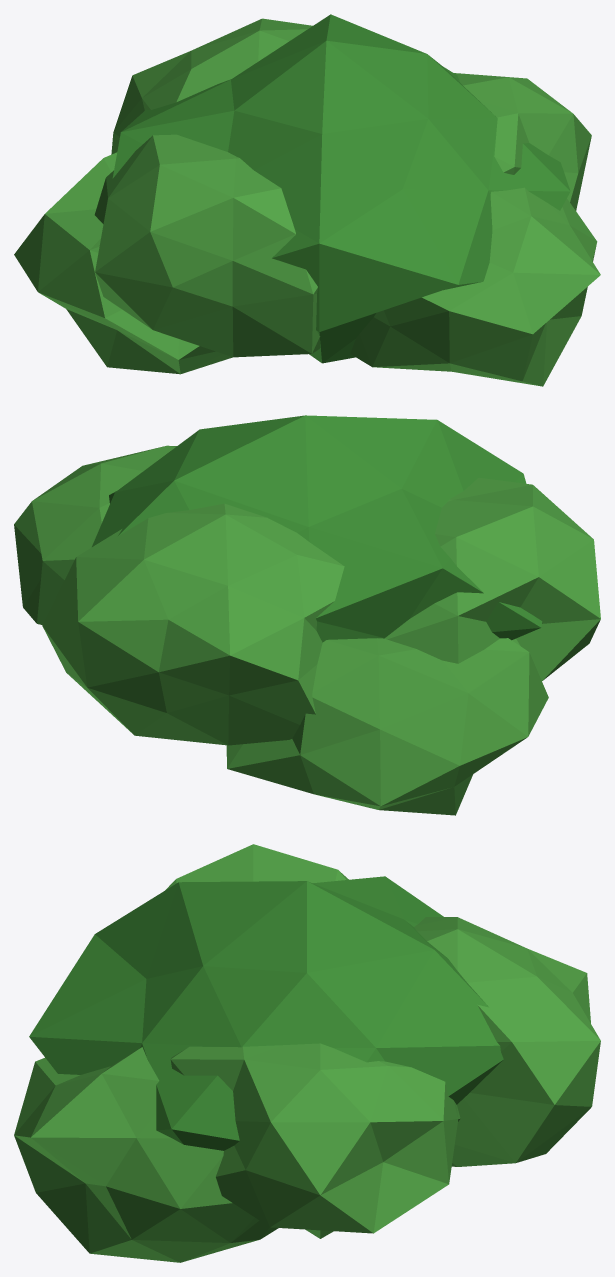
File: parsley.glb
3 renders of one model, top to bottom at view 1: azimuth 30°, elevation 25°; view 2: azimuth 150°, elevation 25°; view 3: azimuth 270°, elevation 25°, orthographic. The views are drawn at different scales.
Visible parts, largest first — view 1: parsley; view 2: parsley; view 3: parsley.
Part boxes in pixels (bbox=[...]): parsley: bbox=[14, 14, 600, 386]; parsley: bbox=[14, 415, 600, 815]; parsley: bbox=[14, 844, 600, 1262].
Size of the model in its own units: 0.5759 by 0.3324 by 0.5255.
